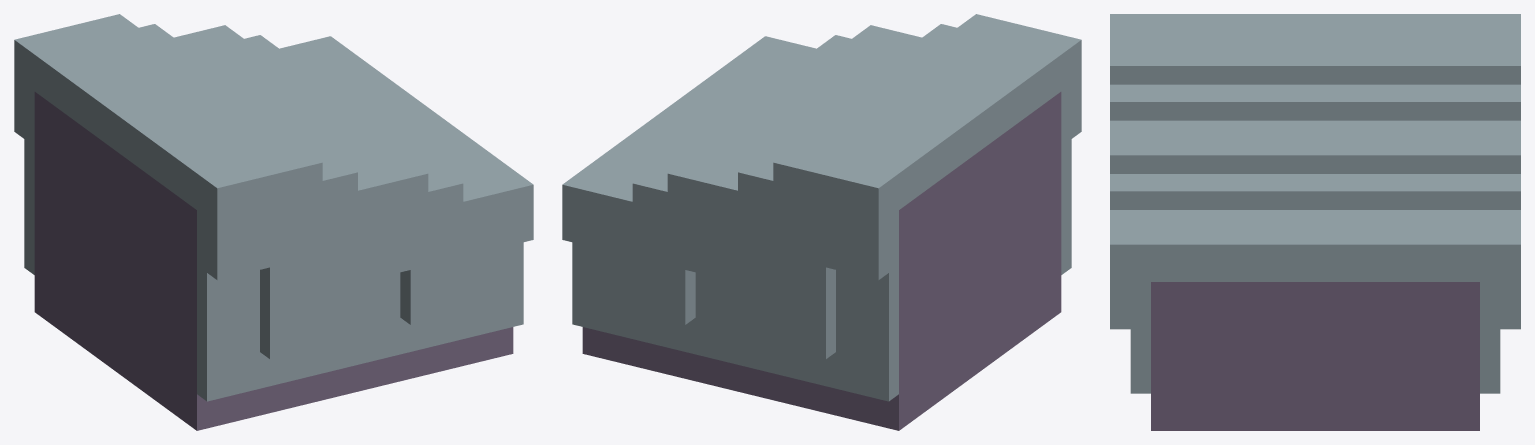
Rendered from Floors-10.obj.
3 views of the same model, side by side, from view 1: azimuth 30°, elevation 25°; view 2: azimuth 150°, elevation 25°; view 3: azimuth 270°, elevation 25° (orthographic).
Bounding box in the file's own units: 1.8 × 1.4 × 2.
